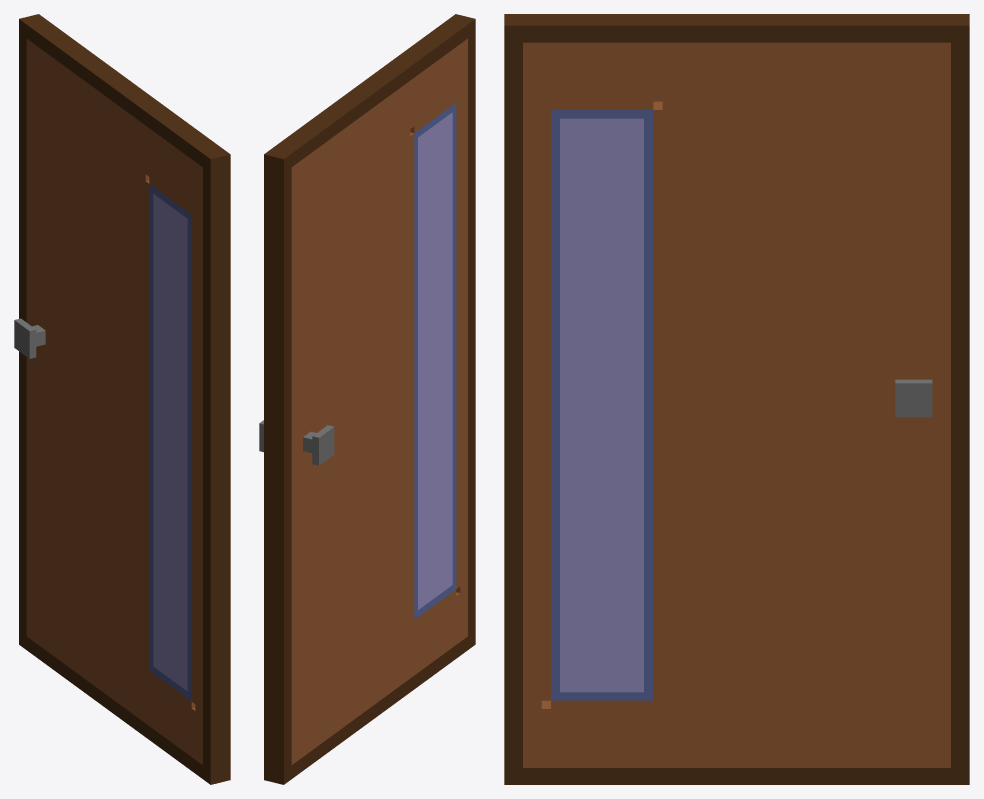
File: SchoolPack-24-door.obj
The picture shows the model from 3 angles, left to right: view 1: azimuth 30°, elevation 25°; view 2: azimuth 150°, elevation 25°; view 3: azimuth 270°, elevation 25°; orthographic projection. The views are drawn at different scales.
Visible parts, largest first — view 1: door; view 2: door; view 3: door.
Part boxes in pixels (x1,y1,x2,y2): door: (14,14,230,784); door: (259,14,475,784); door: (504,14,969,784).
Size of the model in its own units: 0.9 by 9 by 5.
1 material, 1 textured.
